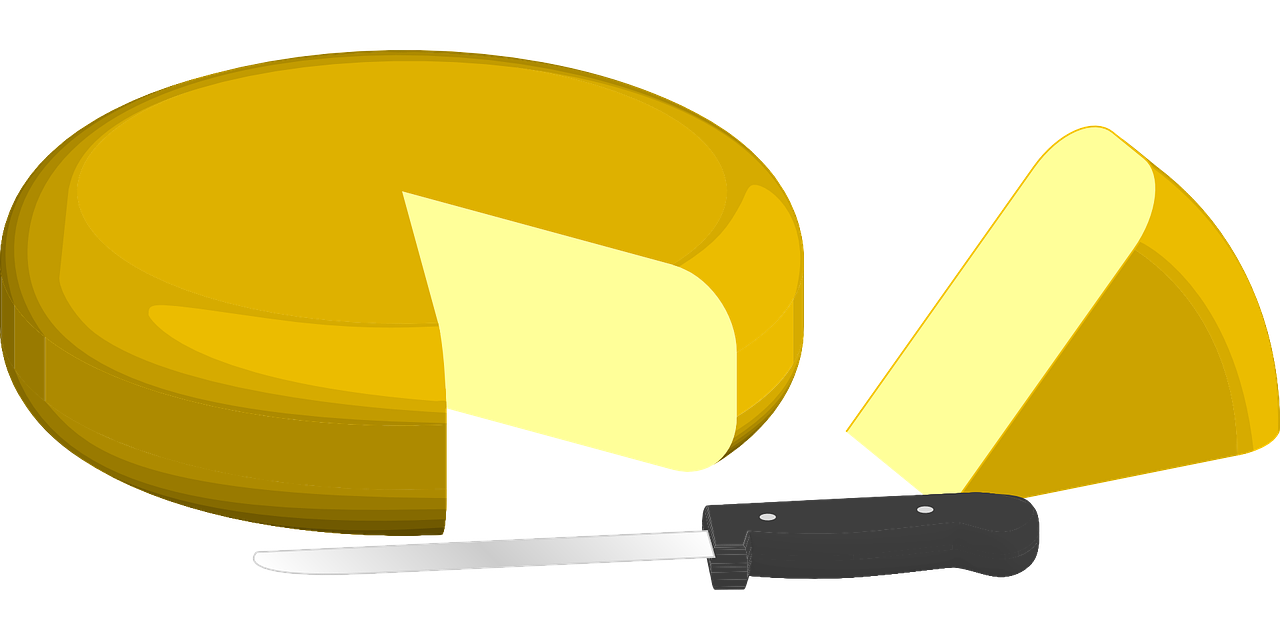knife: (218, 488, 1041, 589)
